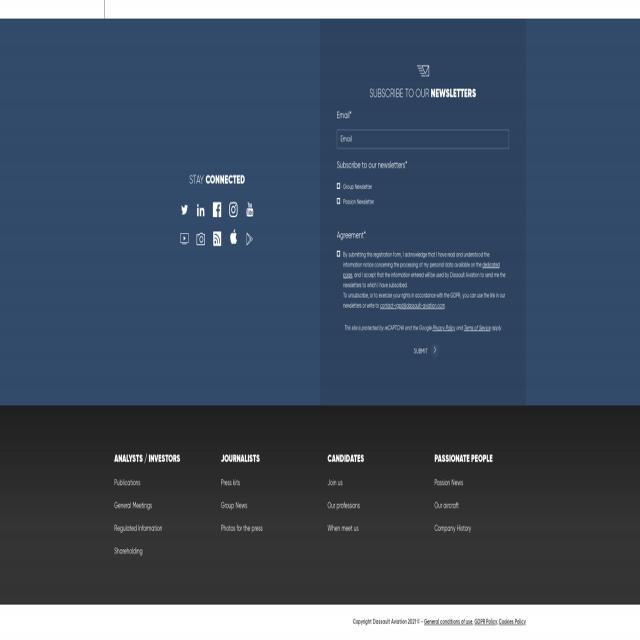button: (229, 202, 238, 217), (197, 231, 205, 247), (197, 202, 205, 217), (213, 202, 221, 217), (246, 202, 254, 217), (417, 66, 429, 76), (213, 232, 221, 246), (230, 229, 237, 244), (180, 233, 189, 244), (180, 204, 188, 215), (247, 233, 253, 245)
field: (337, 130, 509, 149), (336, 197, 341, 205), (337, 182, 340, 189), (337, 251, 340, 257)
